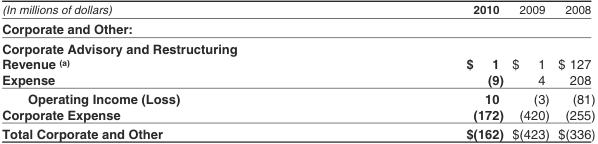table: (1, 1, 594, 140)
table column: (1, 1, 322, 140), (322, 1, 507, 140), (507, 1, 552, 140), (552, 1, 594, 140)
table column header: (1, 1, 594, 18)
table projected row header: (1, 18, 594, 38), (1, 38, 594, 55)
table row: (1, 18, 594, 38), (1, 88, 594, 106), (1, 1, 594, 18), (1, 38, 594, 55), (1, 71, 594, 88), (1, 106, 594, 123), (1, 123, 594, 140), (1, 55, 594, 71)
